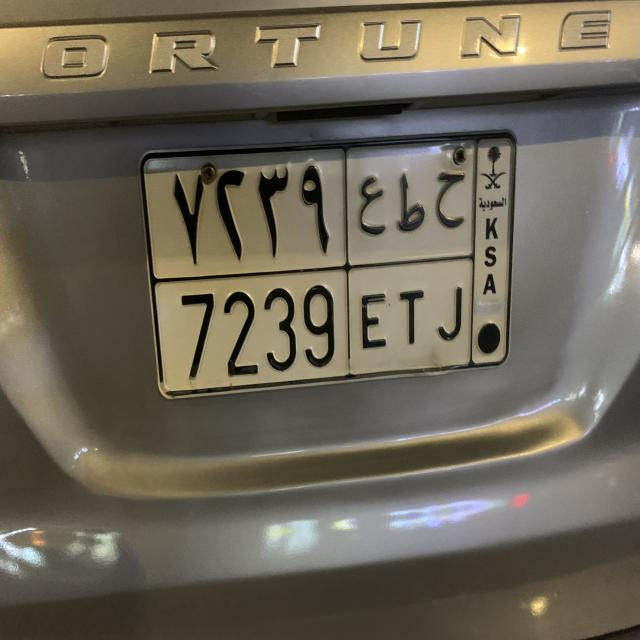license_plate: (130, 122, 525, 408)
